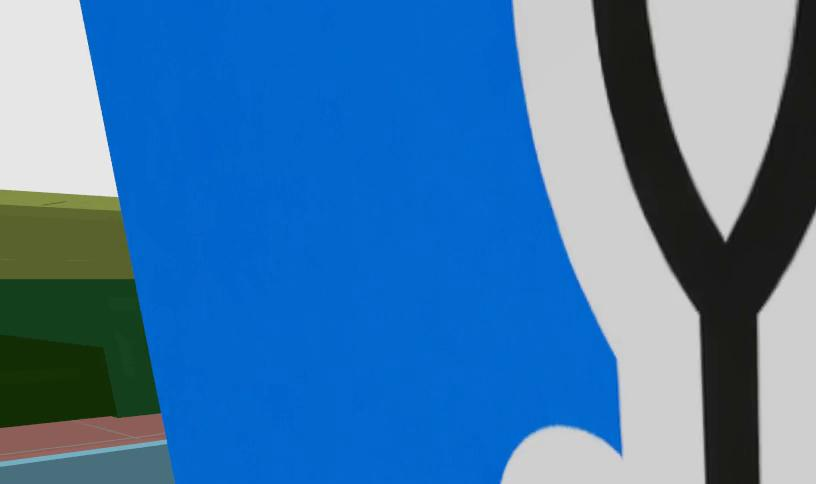KFS_REAL: (84, 0, 816, 484), (499, 0, 816, 484)
